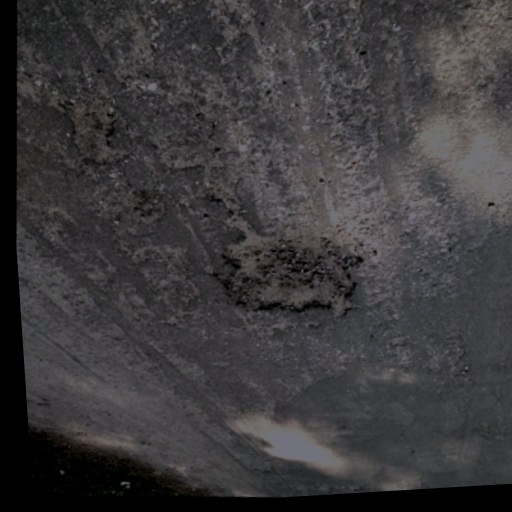pothole: (211, 212, 375, 330), (65, 101, 126, 168)
